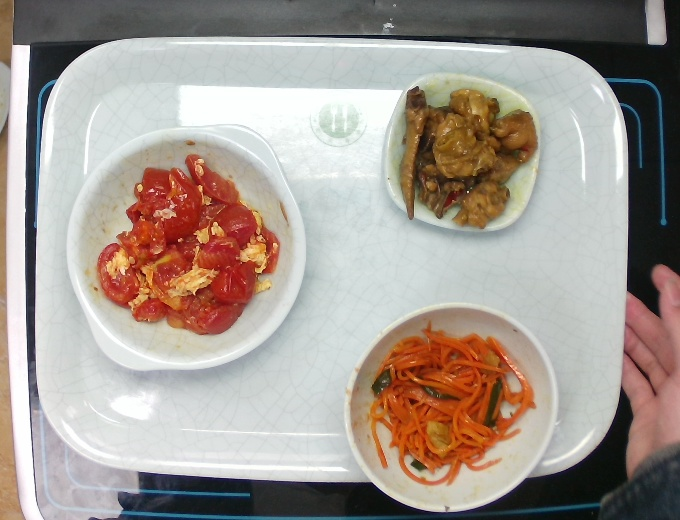JYsf-Fan_Wan: (341, 300, 560, 515)
JYsf-Shuang_Er_Wan: (62, 121, 308, 373)
JYsf-Si_Fang_Die: (379, 70, 543, 235)
